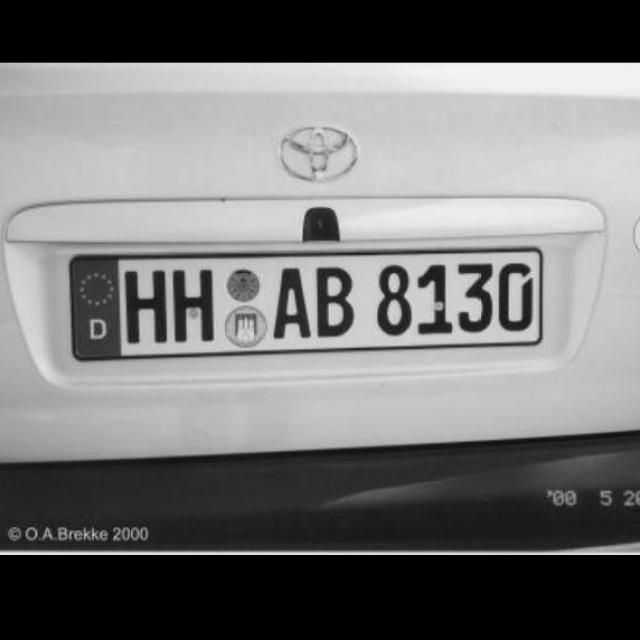licenseplate: (70, 249, 541, 355)
